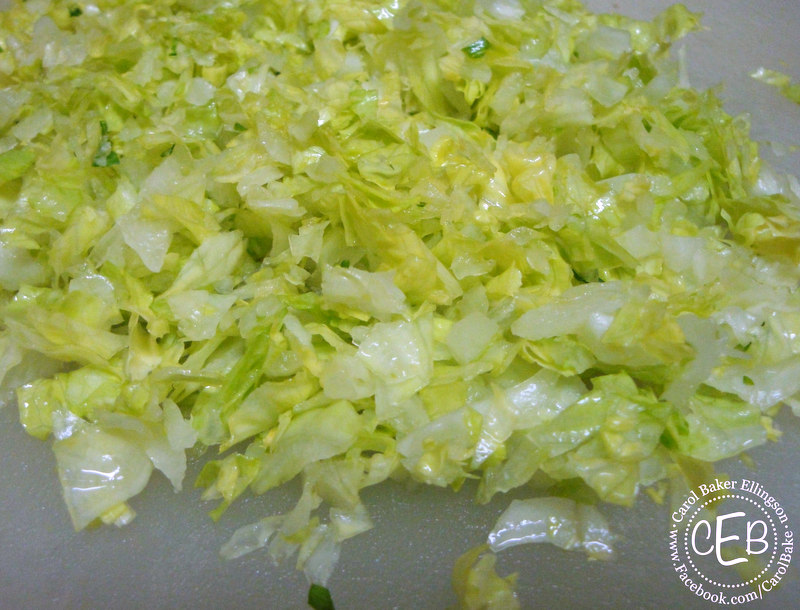chopped lettuce: (17, 5, 766, 486)
